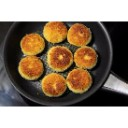cutlet: (48, 44, 74, 71), (42, 71, 66, 98), (66, 70, 94, 93), (69, 21, 93, 47), (19, 56, 43, 81), (75, 47, 100, 69), (23, 32, 45, 56), (42, 22, 67, 42)
